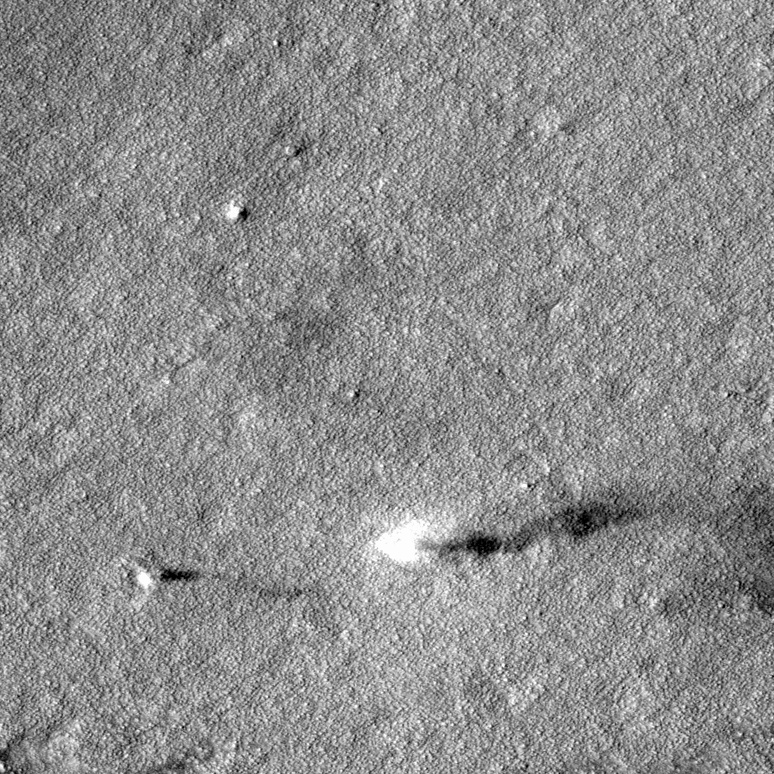dust_devil: (372, 489, 647, 571), (133, 565, 204, 590)
